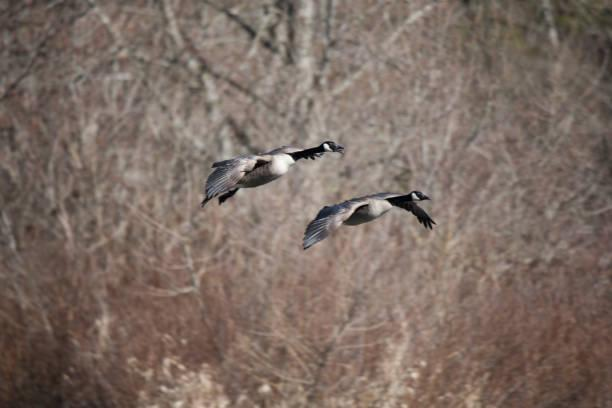Canadian-Goose: (204, 138, 348, 207), (300, 188, 436, 258)
